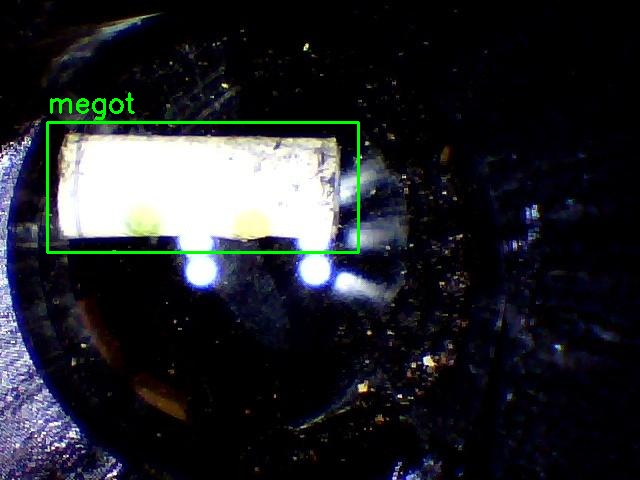megot: (47, 122, 358, 252)
